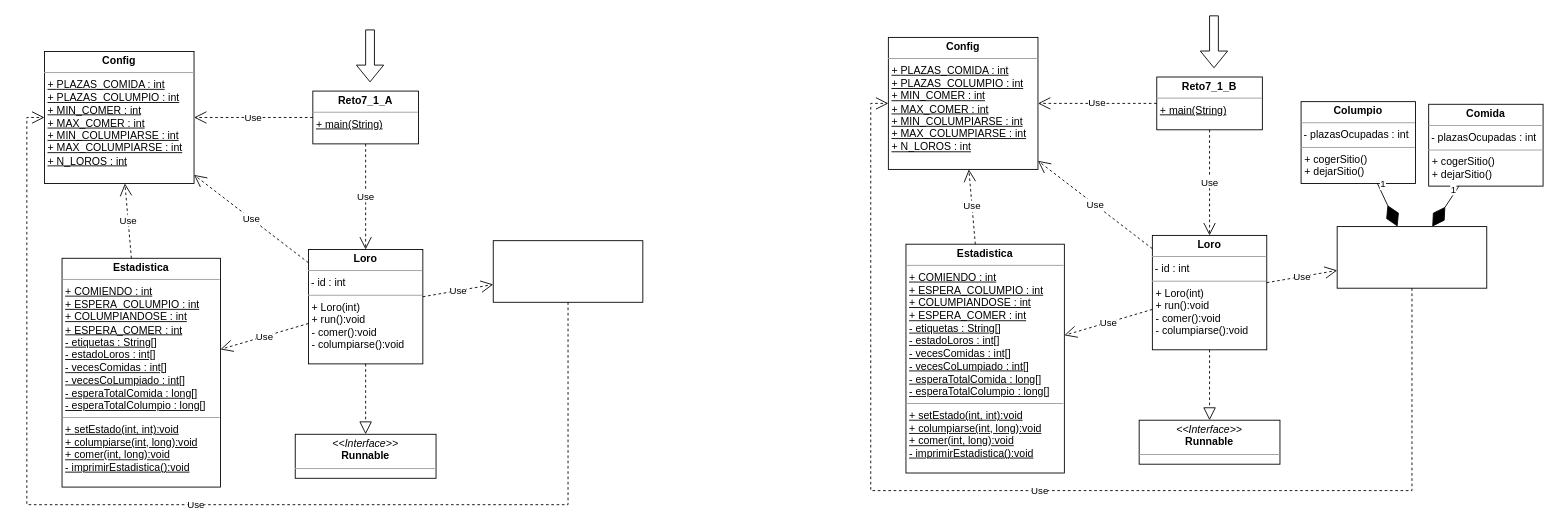
The diagram is 1558 pixels wide and 532 high, and some of its shapes have lost their labels. The centre of each missing label's shape, as x and y in pixels:
"Jaula + comida : Comida + columpio : Columpio" goes at point 1411,257.
"Jaula + comida : Semaphore + columpio : Semaphore" goes at point 567,271.
